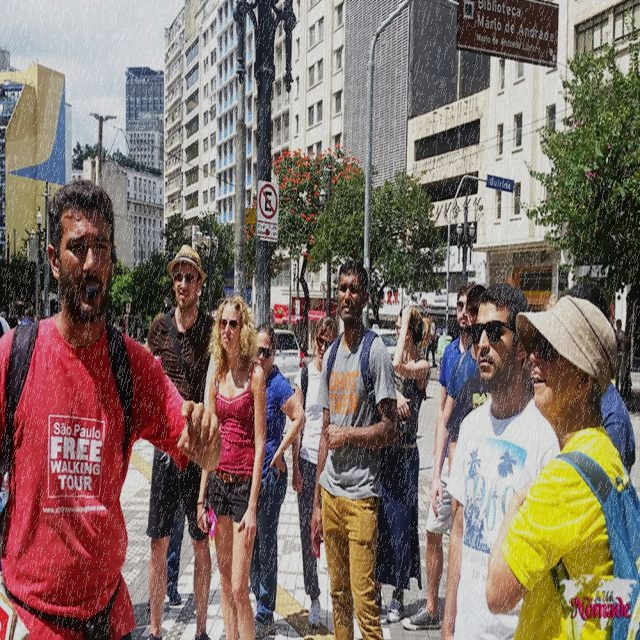pessoa: (0, 176, 225, 639), (482, 290, 640, 640), (441, 282, 562, 640), (307, 259, 402, 639), (140, 241, 221, 639), (398, 278, 478, 634), (194, 294, 268, 640), (370, 304, 432, 624), (248, 320, 308, 640), (557, 281, 637, 478), (291, 314, 339, 630), (430, 282, 492, 522), (446, 355, 501, 512), (162, 498, 187, 606), (0, 298, 43, 338), (611, 318, 625, 393), (426, 314, 440, 369), (111, 312, 132, 338)
